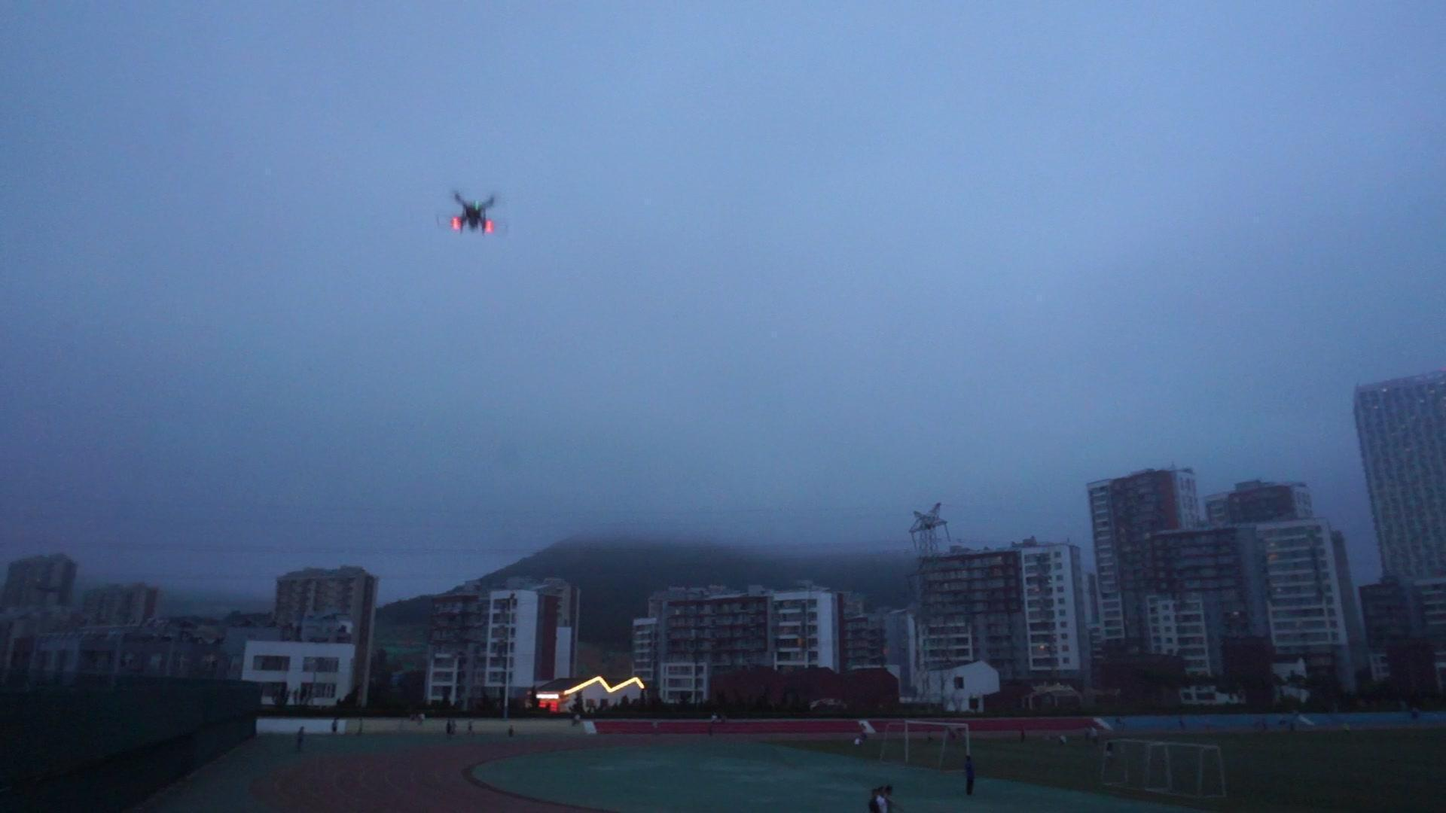UAV: (437, 190, 510, 237)
